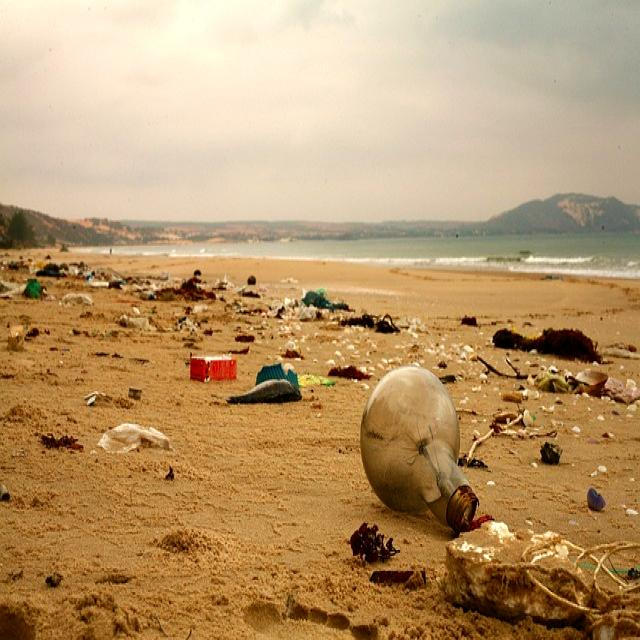Garbage: (4, 248, 640, 626)
Glass: (358, 363, 480, 533)
Trash: (99, 422, 172, 456), (187, 348, 240, 382)
